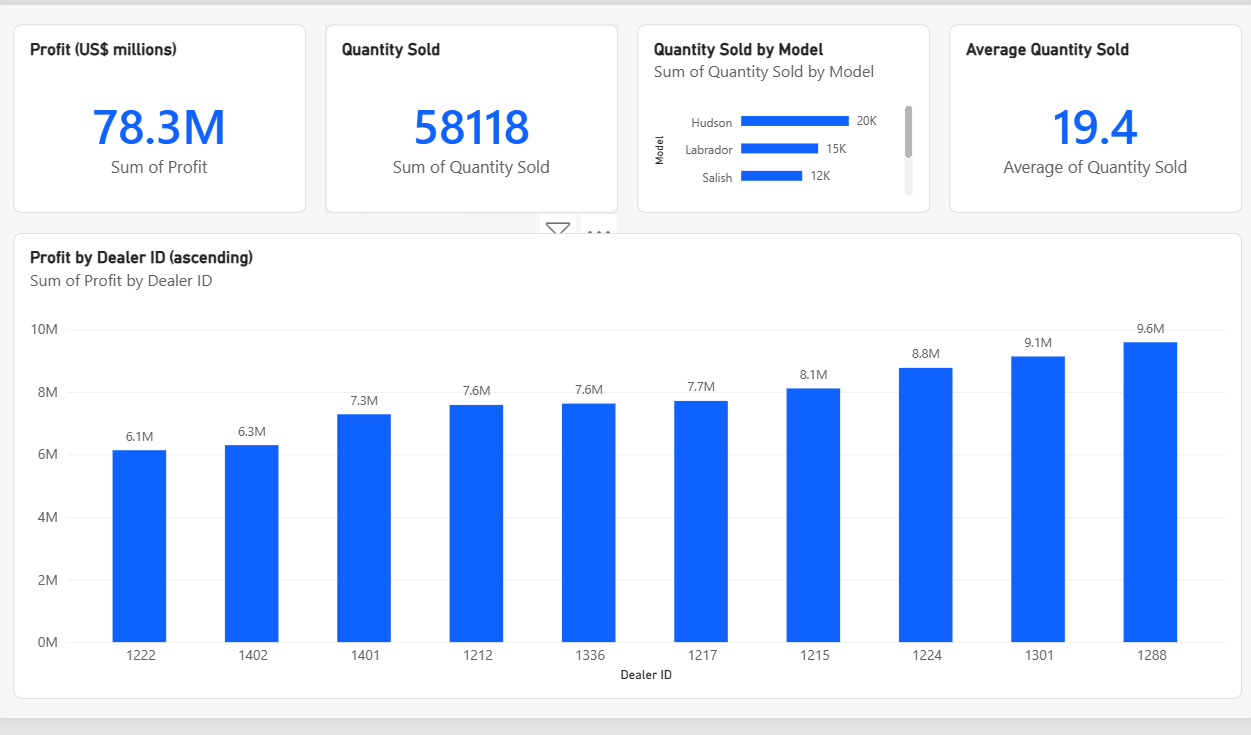

Layout of this report page (visuals, bound fields, positions):
{"tool":"powerbi","page":{"name":"Sales","canvas":[1280,720],"ordinal":0},"visuals":[{"type":"card","title":"Profit","fields":{"Values":["Sum(sales_by_model.Profit)"]},"box":[20,20,295,190],"z":0},{"type":"card","title":"Quantity Sold","fields":{"Values":["Sum(sales_by_model.Quantity Sold)"]},"box":[335,20,295,190],"z":1000},{"type":"clusteredBarChart","title":"Quantity Sold by Model","fields":{"Category":["sales_by_model.Model"],"Y":["Sum(sales_by_model.Quantity Sold)"]},"box":[650,20,295,190],"z":2000},{"type":"card","title":"Average Quantity Sold","fields":{"Values":["Avg(sales_by_model.Quantity Sold)"]},"box":[965,20,295,190],"z":3000},{"type":"clusteredColumnChart","title":"Profit by Dealer ID (ascending)","fields":{"Category":["sales_by_model.Dealer ID"],"Y":["Sum(sales_by_model.Profit)"]},"box":[20,230,1240,470],"z":4000}]}

Visuals, with their boxes on the page's 1280x720 design canvas (x1, y1, x2, y2). These are canvas units, not pixel positions in the 1251x735 screenshot, which may show the page scaled, cropped or inside an application window:
"Profit" card: [20,20,315,210]
"Quantity Sold" card: [335,20,630,210]
"Quantity Sold by Model" clusteredBarChart: [650,20,945,210]
"Average Quantity Sold" card: [965,20,1260,210]
"Profit by Dealer ID (ascending)" clusteredColumnChart: [20,230,1260,700]
